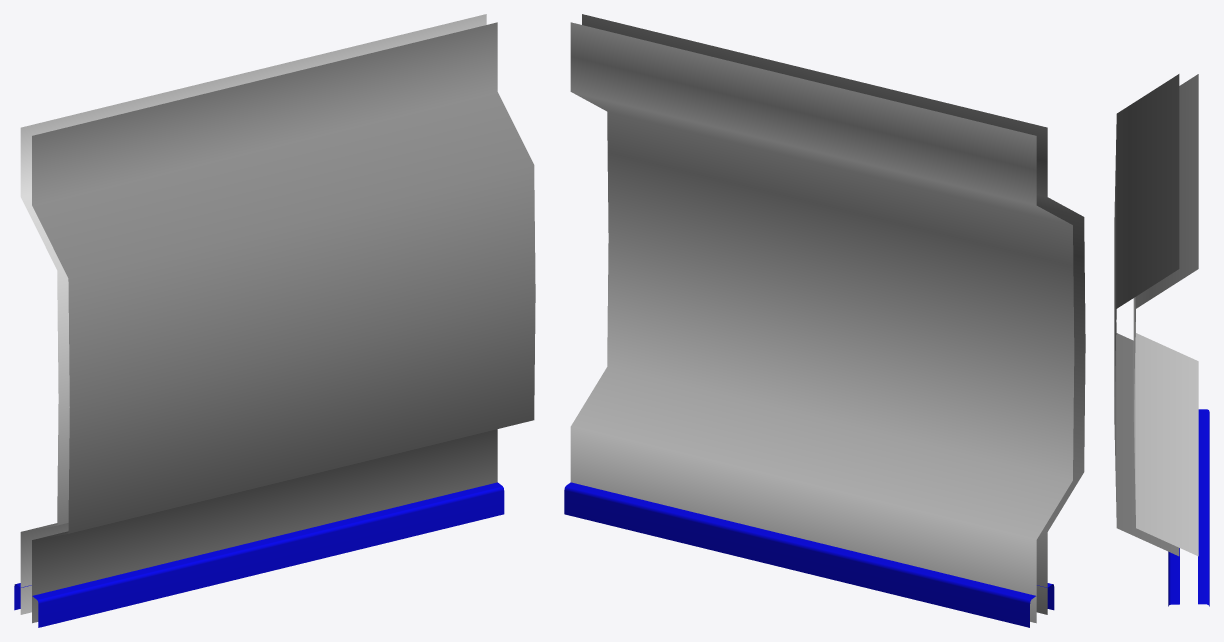
Rendered from WallBeveled.fbx.
The picture shows the model from 3 angles, left to right: view 1: azimuth 30°, elevation 25°; view 2: azimuth 150°, elevation 25°; view 3: azimuth 270°, elevation 25°; orthographic projection. The views are drawn at different scales.
Visible parts, largest first — view 1: Wall, Trim; view 2: Wall, Trim; view 3: Wall, Trim.
Boxes of the visible parts, bbox=[...] form: Wall: bbox=[20, 14, 535, 623]; Trim: bbox=[14, 482, 504, 627]; Wall: bbox=[570, 14, 1085, 623]; Trim: bbox=[564, 482, 1054, 627]; Wall: bbox=[1114, 74, 1198, 556]; Trim: bbox=[1168, 409, 1209, 606].
Size of the model in its own units: 12 by 12 by 2.47.
